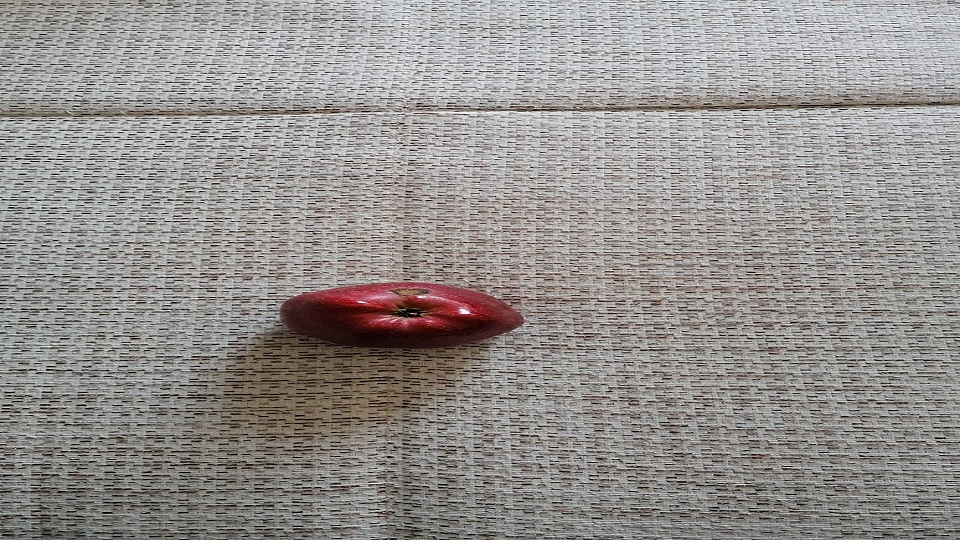elma: (278, 280, 526, 351)
